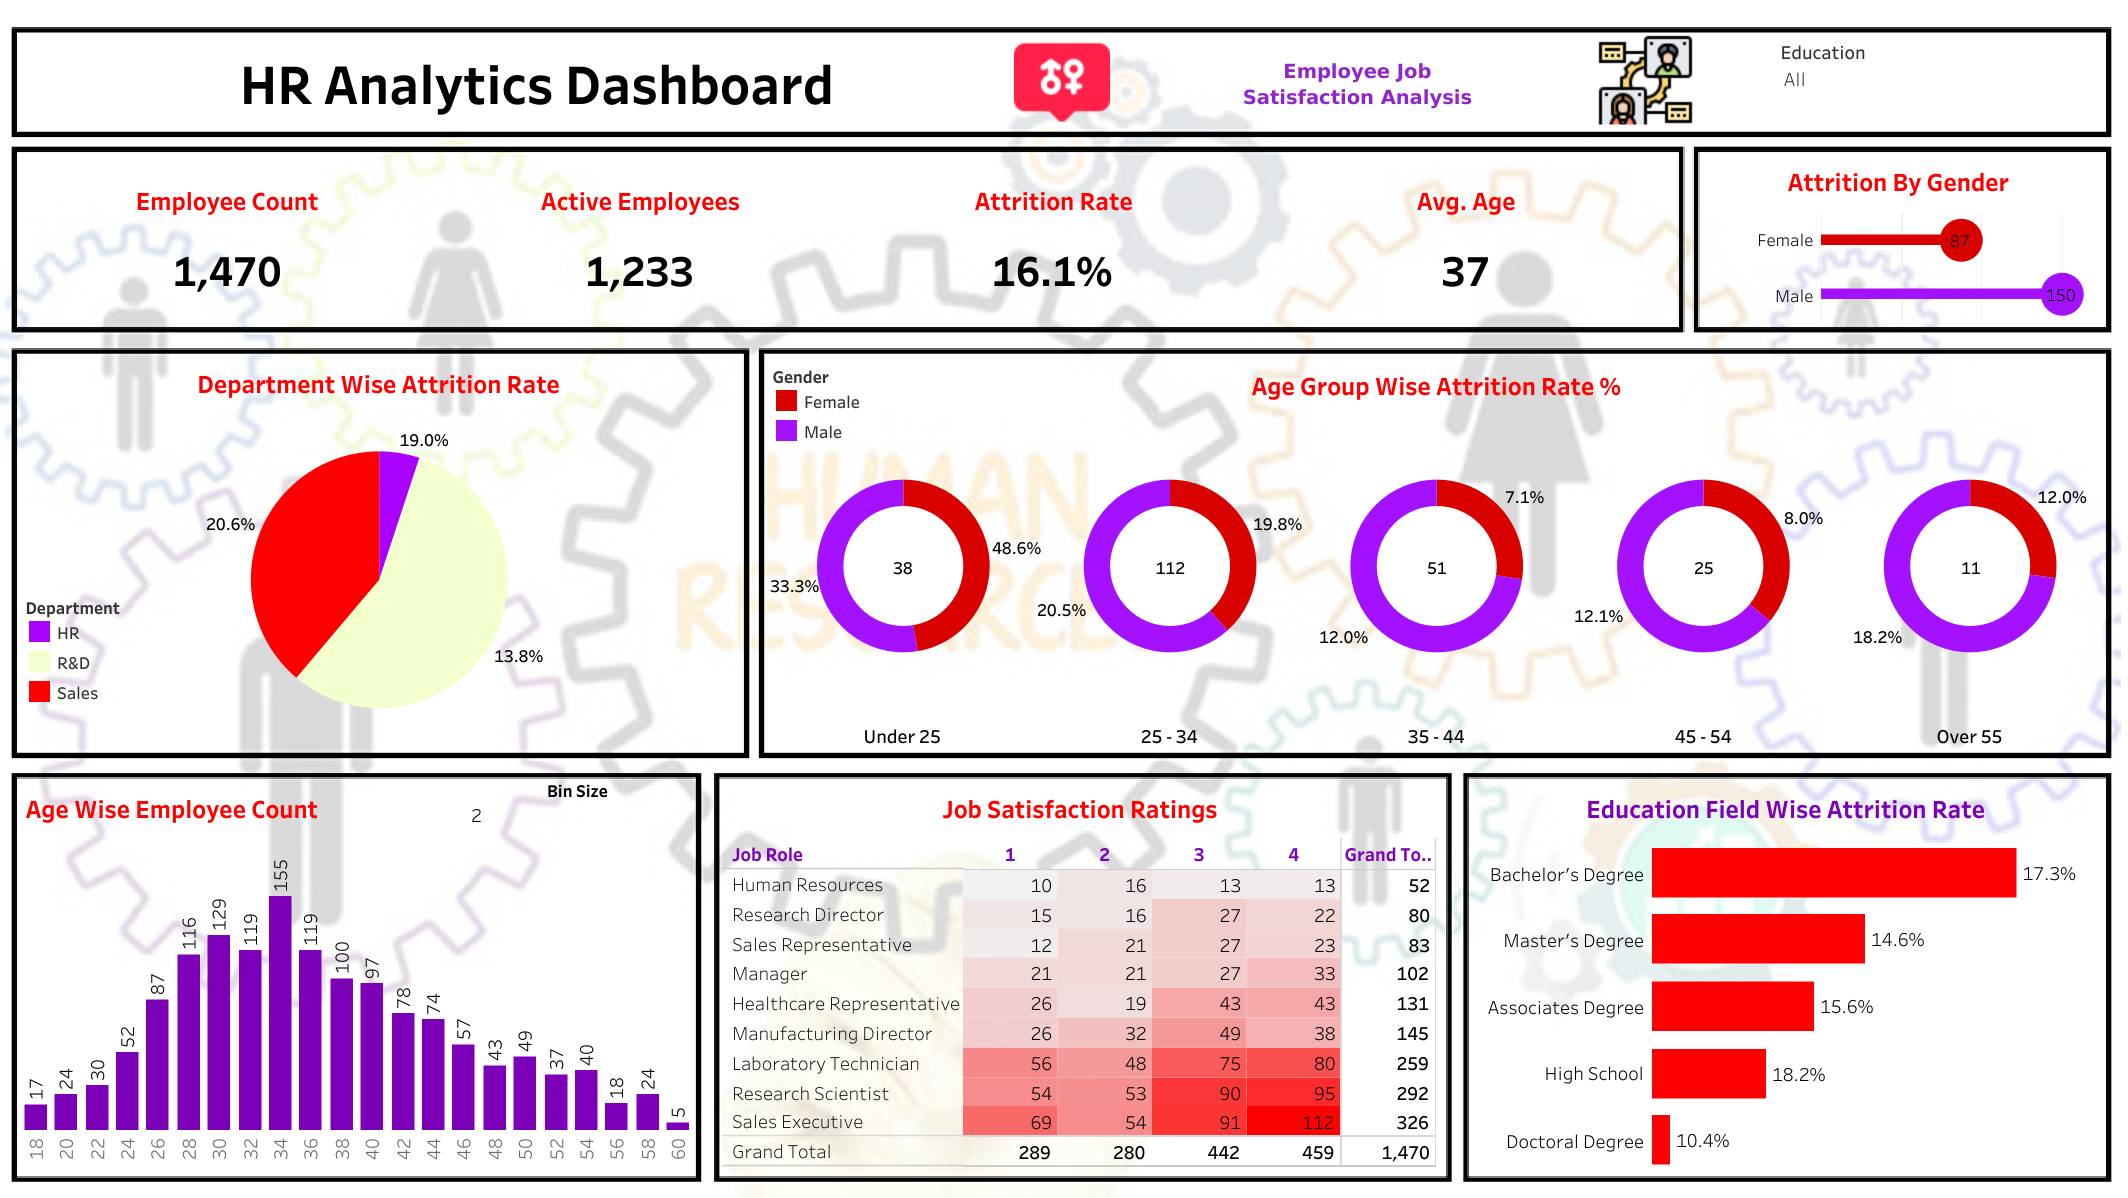

The dashboard page shown, as its layout file describes it:
{"tool":"tableau","page":{"name":"Dashboard 1","canvas":[1604,806],"ordinal":0},"visuals":[{"type":"image","param":"Image/bg1.png","box":[0,2,1414,802]},{"type":"image","param":"Image/male-and-female.png","box":[676,23,68,60]},{"type":"image","param":"Image/human-resources.png","box":[1065,23,66,60]},{"type":"text","box":[13,24,690,61]},{"type":"filter","title":"Education Field Wise Attrition Rate","param":"[federated.0u4zlzb1skt2ra1h4f0hw11uofjn].[none:Education:nk]","box":[1187,24,212,60]},{"type":"text","box":[749,28,312,55]},{"type":"worksheet","title":"Attrition By Gender","mark":"Automatic","rows":["Gender"],"cols":["Calculation_1331658128721686531","Calculation_1331658128721686531"],"box":[1134,103,263,111]},{"type":"worksheet","title":"KPI Cards","mark":"Automatic","box":[14,105,1101,109]},{"type":"worksheet","title":"Department Wise Attrition Rate","mark":"Pie","box":[13,238,479,259]},{"type":"worksheet","title":"Age Group Wise Attrition Rate %","mark":"Pie","rows":["Calculation_673288158245072897","Calculation_673288158245072897"],"cols":["CF_age band"],"box":[513,239,889,260]},{"type":"legend","title":"Age Group Wise Attrition Rate %","param":"[federated.0u4zlzb1skt2ra1h4f0hw11uofjn].[none:Gender:nk]","box":[514,241,140,67]},{"type":"legend","title":"Department Wise Attrition Rate","param":"[federated.0u4zlzb1skt2ra1h4f0hw11uofjn].[none:Department:nk]","box":[16,395,132,101]},{"type":"parameter","param":"[Parameters].[Parameter 1]","box":[312,518,146,83]},{"type":"worksheet","title":"Age Group Wise Employee Count","mark":"Automatic","rows":["Employee Count"],"cols":["Age (bin)"],"box":[13,521,449,259]},{"type":"worksheet","title":"Job Satisfaction Ratings","mark":"Square","rows":["Job Role"],"cols":["Job Satisfaction"],"box":[482,521,476,257]},{"type":"worksheet","title":"Education Field Wise Attrition Rate","mark":"Automatic","rows":["Education"],"cols":["Calculation_1331658128721686531"],"box":[981,521,419,261]}]}

Visuals, with their boxes on the page's 1604x806 design canvas (x1, y1, x2, y2). These are canvas units, not pixel positions in the 2128x1198 screenshot, which may show the page scaled, cropped or inside an application window:
image: (0, 2, 1414, 804)
image: (676, 23, 744, 83)
image: (1065, 23, 1131, 83)
text: (13, 24, 703, 85)
"Education Field Wise Attrition Rate" filter: (1187, 24, 1399, 84)
text: (749, 28, 1061, 83)
"Attrition By Gender" worksheet: (1134, 103, 1397, 214)
"KPI Cards" worksheet: (14, 105, 1115, 214)
"Department Wise Attrition Rate" worksheet (Pie marks): (13, 238, 492, 497)
"Age Group Wise Attrition Rate %" worksheet (Pie marks): (513, 239, 1402, 499)
"Age Group Wise Attrition Rate %" legend: (514, 241, 654, 308)
"Department Wise Attrition Rate" legend: (16, 395, 148, 496)
parameter: (312, 518, 458, 601)
"Age Group Wise Employee Count" worksheet: (13, 521, 462, 780)
"Job Satisfaction Ratings" worksheet (Square marks): (482, 521, 958, 778)
"Education Field Wise Attrition Rate" worksheet: (981, 521, 1400, 782)
